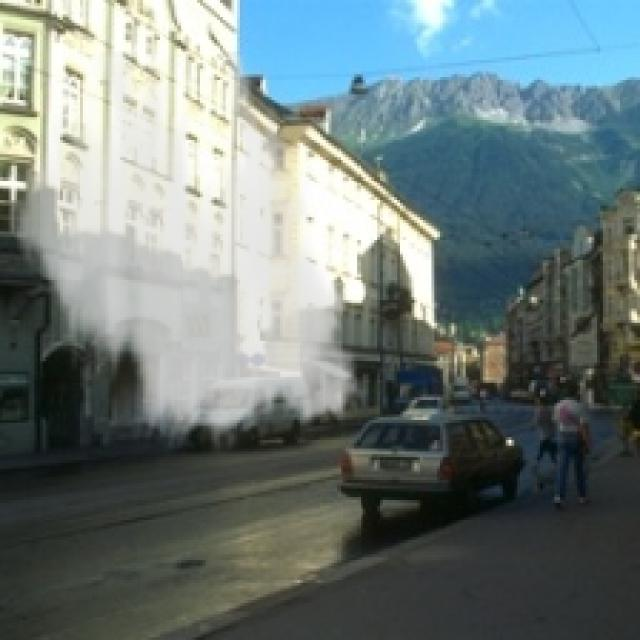smoke: (3, 52, 374, 454)
